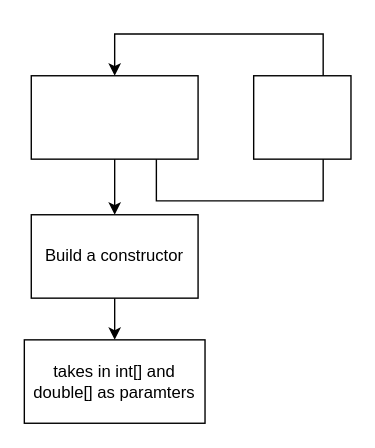
This 375x448 diagram has some shape labels left out. The box of each missing label's shape, as (x1, y1, x2, y2) in pixels:
Read question: (30, 74, 198, 159)
x3: (252, 74, 351, 159)
